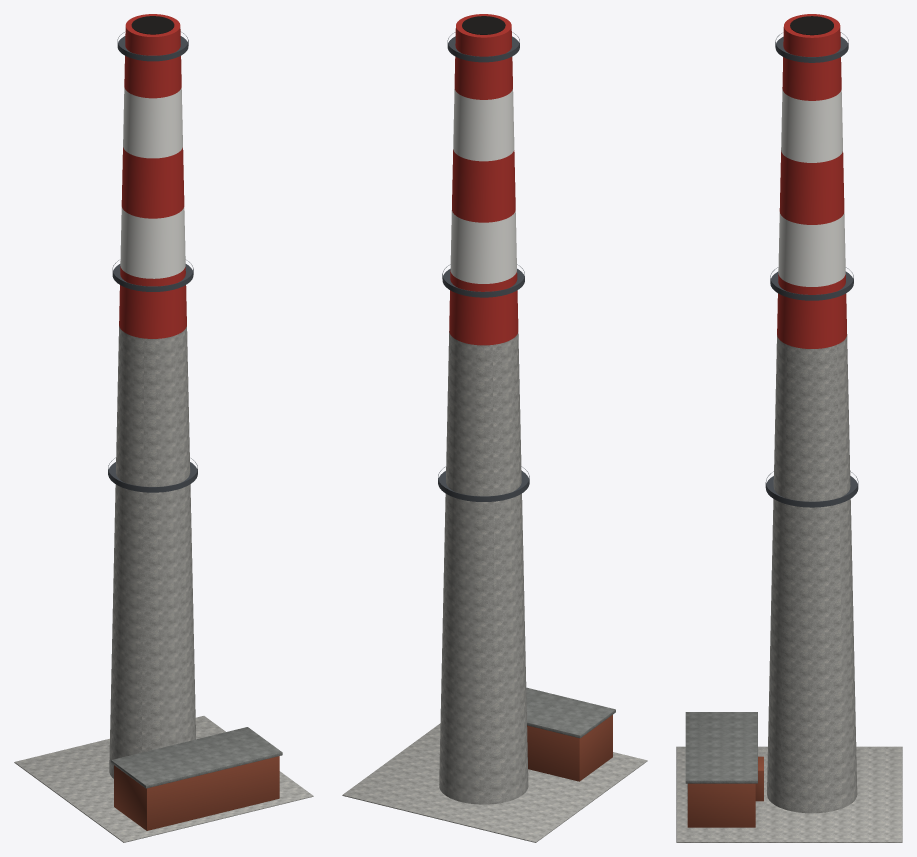
The model's file is striped-power-plant-chimney.glb.
The picture shows the model from 3 angles, left to right: view 1: azimuth 30°, elevation 25°; view 2: azimuth 150°, elevation 25°; view 3: azimuth 270°, elevation 25°; orthographic projection. The views are drawn at different scales.
Parts seen in each view (by area): view 1: Striped_Power_Plant_Chimney; view 2: Striped_Power_Plant_Chimney; view 3: Striped_Power_Plant_Chimney.
Boxes of the visible parts, x1,y1,x2,y2 form: Striped_Power_Plant_Chimney: (14, 14, 313, 842); Striped_Power_Plant_Chimney: (342, 14, 647, 842); Striped_Power_Plant_Chimney: (676, 14, 902, 842).
Size of the model in its own units: 40 by 150 by 40.
Materials: 7 (3 with a texture image).
